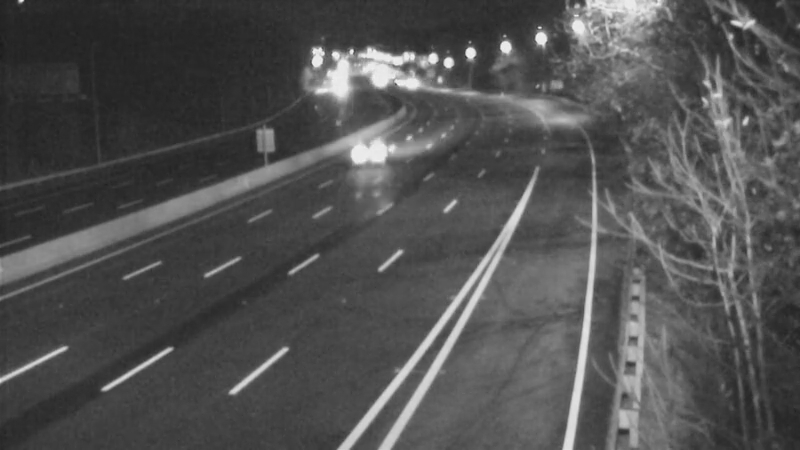vehicle: (327, 113, 407, 193)
